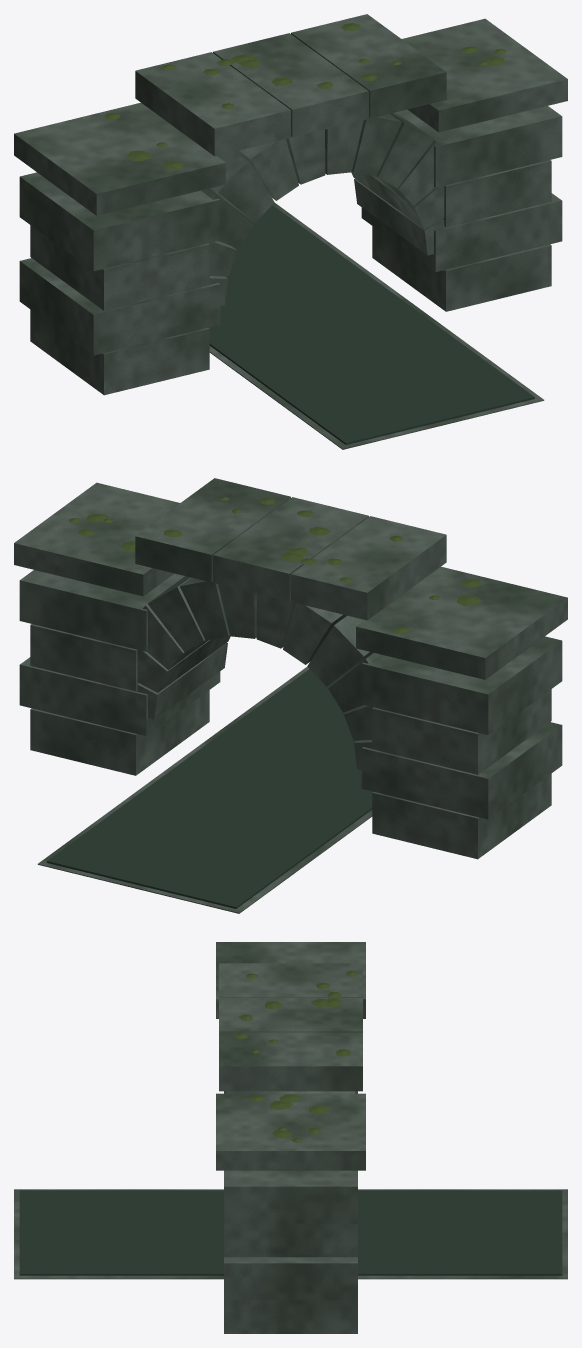
Rendered from mossy-stone-culvert.glb.
3 renders of one model, top to bottom at view 1: azimuth 30°, elevation 25°; view 2: azimuth 150°, elevation 25°; view 3: azimuth 270°, elevation 25°, orthographic. The views are drawn at different scales.
Visible parts, largest first — view 1: Culvert slow water, Wing wall stone cap, Wing wall quarry block.003, Wing wall stone cap.001, Top course coping stone, Wing wall quarry block.001, Top course coping stone.002, Top course coping stone.001, Wing wall quarry block.007, Wing wall quarry block.002, Wing wall quarry block.004, Wing wall quarry block (+14 smaller); view 2: Culvert slow water, Wing wall stone cap, Wing wall quarry block.003, Wing wall stone cap.001, Top course coping stone, Wing wall quarry block.001, Top course coping stone.002, Top course coping stone.001, Wing wall quarry block.007, Wing wall quarry block.002, Wing wall quarry block.004, Wing wall quarry block (+14 smaller); view 3: Culvert slow water, Wing wall stone cap.001, Top course coping stone.002, Wing wall quarry block.007, Wing wall quarry block.005, Top course coping stone, Top course coping stone.001, Wing wall quarry block.006, Wing wall quarry block.004, Culvert stream bed, Wing wall stone cap.
Boxes of the visible parts, x1,y1,x2,y2 form: Culvert slow water: (208, 188, 534, 444); Wing wall stone cap: (14, 102, 225, 215); Wing wall quarry block.003: (19, 172, 220, 271); Wing wall stone cap.001: (402, 18, 567, 132); Top course coping stone: (135, 52, 290, 156); Wing wall quarry block.001: (19, 258, 220, 355); Top course coping stone.002: (291, 14, 446, 118); Top course coping stone.001: (213, 33, 368, 137); Wing wall quarry block.007: (397, 106, 562, 187); Wing wall quarry block.002: (30, 225, 209, 310); Wing wall quarry block.004: (372, 226, 551, 311); Wing wall quarry block: (30, 309, 209, 395); Culvert slow water: (47, 652, 373, 908); Wing wall stone cap: (356, 566, 567, 679); Wing wall quarry block.003: (361, 636, 562, 735); Wing wall stone cap.001: (14, 482, 179, 596); Top course coping stone: (291, 516, 446, 620); Wing wall quarry block.001: (361, 722, 562, 819); Top course coping stone.002: (135, 478, 290, 582); Top course coping stone.001: (213, 497, 368, 601); Wing wall quarry block.007: (19, 570, 184, 651); Wing wall quarry block.002: (372, 689, 551, 774); Wing wall quarry block.004: (30, 690, 209, 775); Wing wall quarry block: (372, 773, 551, 859); Culvert slow water: (19, 1190, 562, 1275); Wing wall stone cap.001: (216, 1093, 365, 1170); Top course coping stone.002: (219, 1032, 362, 1091); Wing wall quarry block.007: (224, 1170, 357, 1223); Wing wall quarry block.005: (224, 1257, 357, 1300); Top course coping stone: (219, 963, 362, 997); Top course coping stone.001: (219, 997, 362, 1032); Wing wall quarry block.006: (224, 1223, 357, 1257); Wing wall quarry block.004: (224, 1300, 357, 1333); Culvert stream bed: (14, 1189, 567, 1279); Wing wall stone cap: (216, 942, 365, 1018).
Bounding box in the file's own units: 3.39 × 1.68 × 3.8.
3 materials, 1 textured.
